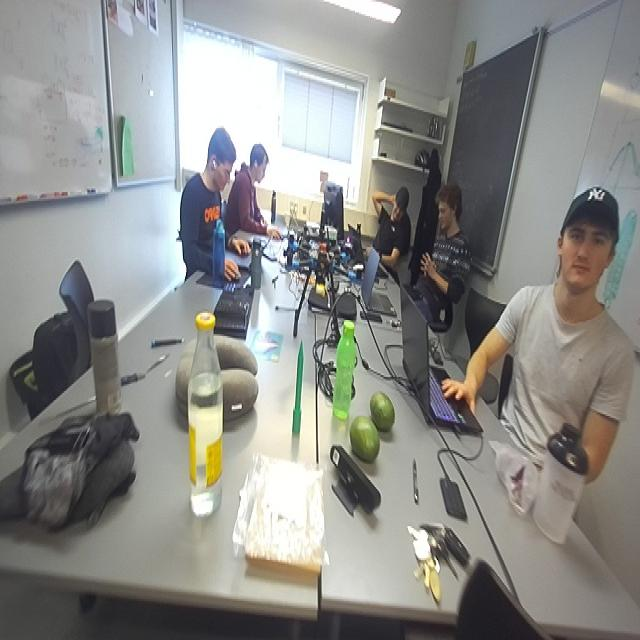probe: (292, 341, 303, 434)
